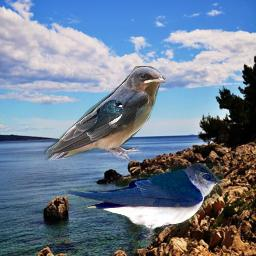Swallow: (65, 163, 224, 242), (44, 66, 166, 165), (76, 99, 124, 134)
